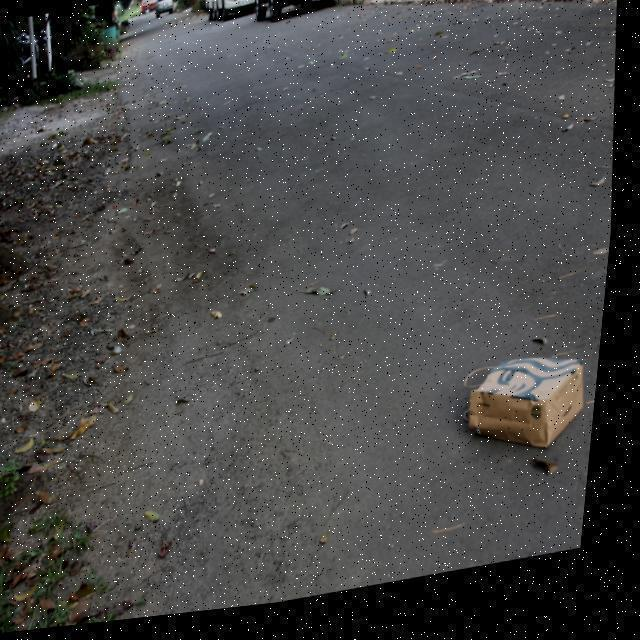Paper_Bag: (466, 360, 600, 476)
